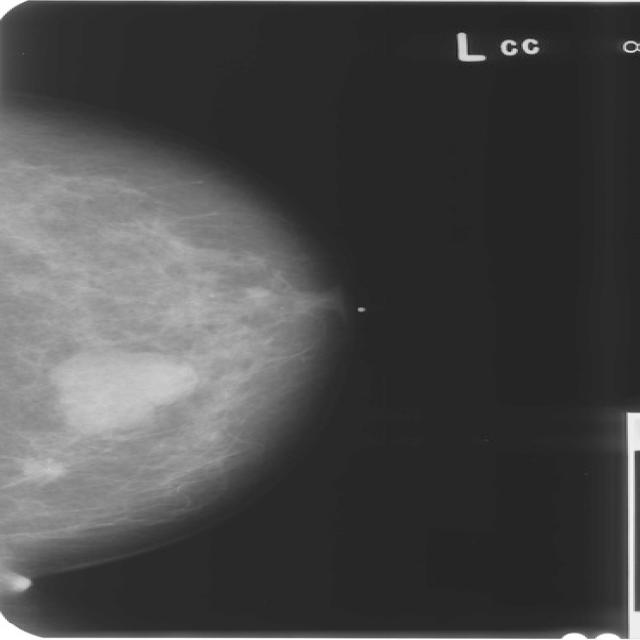tumour: (17, 458, 64, 483)
